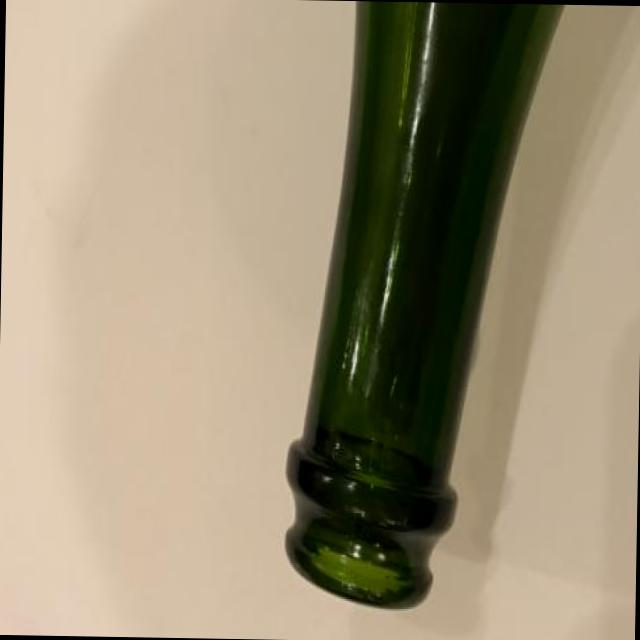chai_thuy_tinh: (286, 1, 563, 609)
